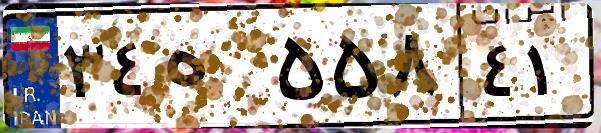1: (525, 38, 570, 115)
3: (57, 26, 110, 100)
4: (475, 38, 525, 113), (110, 28, 158, 98)
5: (270, 28, 330, 110), (330, 28, 385, 110)
8: (385, 28, 445, 110)
ه: (158, 20, 270, 120)
